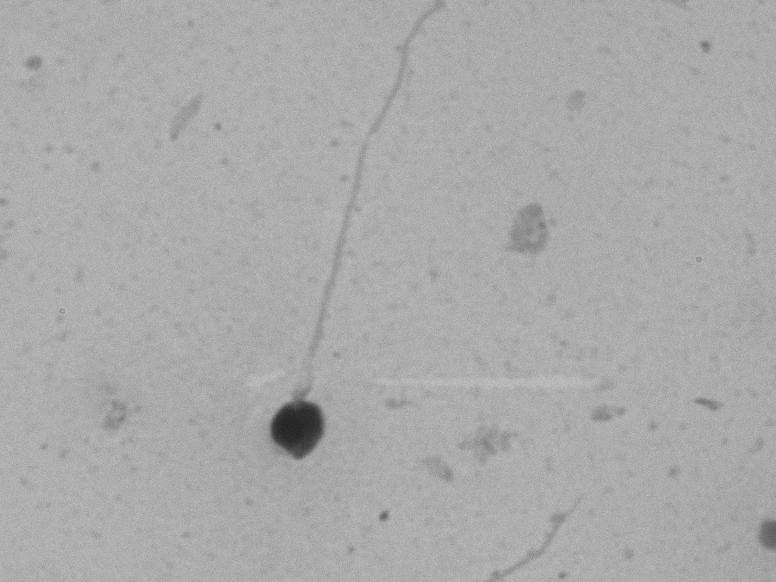Abnormal: (229, 33, 449, 505)
